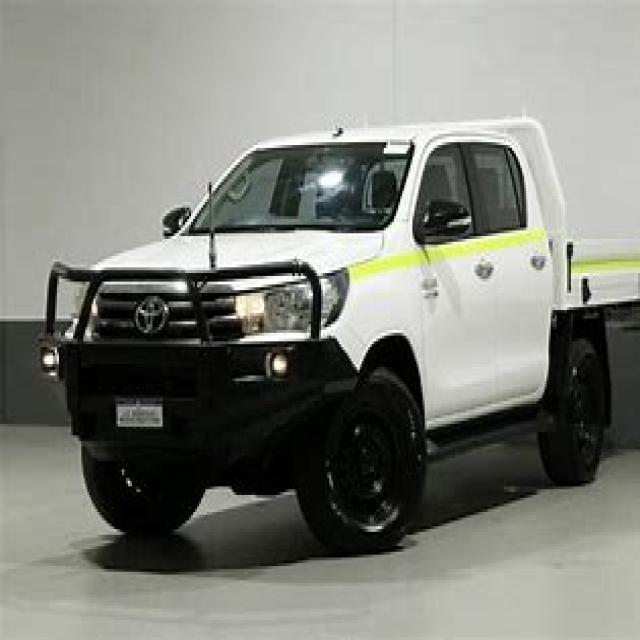light_vehicle: (24, 108, 638, 566)
